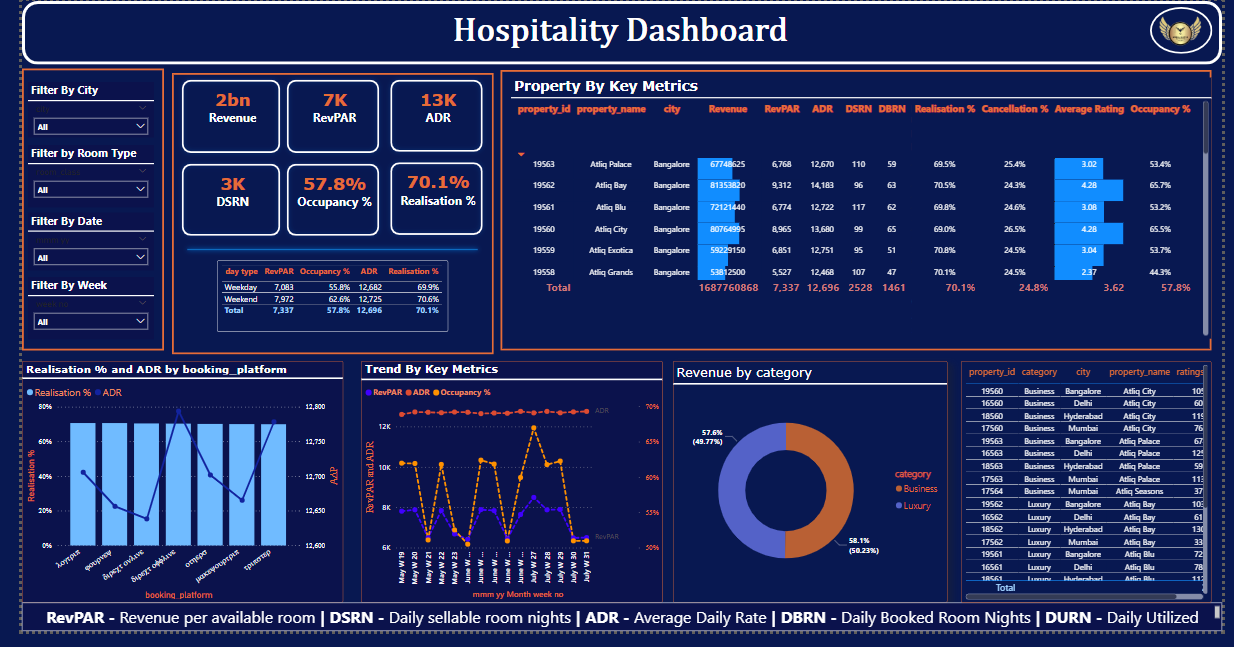

The dashboard page shown, as its layout file describes it:
{"tool":"powerbi","page":{"name":"HOME","canvas":[1800,1100],"ordinal":0},"visuals":[{"type":"cardVisual","title":"RevPar","fields":{"Data":["key_measures.Occupancy %"]},"box":[718.8,20,198.8,152.5],"z":0},{"type":"tableEx","title":"Property By Key Metrics","fields":{"Values":["dim_hotels.property_id","dim_hotels.property_name","dim_hotels.city","key_measures.Revenue","key_measures.RevPAR","key_measures.ADR","key_measures.DSRN","key_measures.DBRN","key_measures.DURN","key_measures.Realisation %","key_measures.Cancellation %","key_measures.Average Rating"]},"box":[816.7,626.7,930,383.3],"z":1000},{"type":"slicer","title":"Filter By City","fields":{"Values":["dim_hotels.city"]},"box":[0,118.3,151.7,110],"z":2000},{"type":"slicer","title":"Filter By Week","fields":{"Values":["dim_date.week no"]},"box":[0,433.3,210,101.7],"z":3000},{"type":"slicer","title":"Filter by Room Type","fields":{"Values":["dim_rooms.room_class"]},"box":[0,228.3,210,103.3],"z":4000},{"type":"slicer","title":"Filter By Date","fields":{"Values":["dim_date.mmm yy"]},"box":[0,338.3,210,95],"z":5000},{"type":"donutChart","title":"Revenue by category","fields":{"Category":["dim_hotels.category"],"Y":["key_measures.Occupancy %"]},"box":[0,533.8,221.2,186.2],"z":6000},{"type":"cardVisual","title":"RevPar","fields":{"Data":["key_measures.RevPAR"]},"box":[318.3,0,179.2,153.3],"z":7000},{"type":"cardVisual","title":"RevPar","fields":{"Data":["key_measures.DSRN"]},"box":[491.4,0,195.7,152.9],"z":8000},{"type":"cardVisual","title":"RevPar","fields":{"Data":["key_measures.Occupancy %"]},"box":[728.8,30,198.8,152.5],"z":9000},{"type":"cardVisual","title":"RevPar","fields":{"Data":["key_measures.ADR"]},"box":[885.7,0,190,152.9],"z":10000},{"type":"cardVisual","title":"RevPar","fields":{"Data":["key_measures.Realisation %"]},"box":[1075.7,0,204.3,152.9],"z":11000},{"type":"cardVisual","title":"Revenue","fields":{"Data":["key_measures.Revenue"]},"box":[152.1,0,178,153.7],"z":12000},{"type":"tableEx","fields":{"Values":["key_measures.Revenue WoW change %"]},"box":[444.3,257.1,71.4,44.3],"z":13000},{"type":"lineStackedColumnComboChart","fields":{"Category":["dim_fact_bookings.booking_platform"],"Y":["key_measures.Realisation %"],"Y2":["key_measures.ADR"]},"box":[356.7,720,400,213.3],"z":14000},{"type":"tableEx","fields":{"Values":["dim_date.data type","key_measures.RevPAR","key_measures.Occupancy %","key_measures.ADR","key_measures.Realisation %"]},"box":[470,460,430,180],"z":15000},{"type":"actionButton","box":[0,0,100,40],"z":16000},{"type":"lineChart","title":"Trend By Key Metrics","fields":{"Category":["dim_date.mmm yy.Variation.Date Hierarchy.Month","dim_date.week no"],"Y":["key_measures.RevPAR","key_measures.ADR"],"Y2":["key_measures.Occupancy %"]},"box":[980,206.7,733.3,266.7],"z":17000},{"type":"tableEx","fields":{"Values":["key_measures.Revpar WoW change %"]},"box":[738.6,205.7,218.6,108.6],"z":18000}]}

Visuals, with their boxes on the page's 1800x1100 design canvas (x1, y1, x2, y2). These are canvas units, not pixel positions in the 1234x647 screenshot, which may show the page scaled, cropped or inside an application window:
"RevPar" cardVisual: x1=719, y1=20, x2=918, y2=172
"Property By Key Metrics" tableEx: x1=817, y1=627, x2=1747, y2=1010
"Filter By City" slicer: x1=0, y1=118, x2=152, y2=228
"Filter By Week" slicer: x1=0, y1=433, x2=210, y2=535
"Filter by Room Type" slicer: x1=0, y1=228, x2=210, y2=332
"Filter By Date" slicer: x1=0, y1=338, x2=210, y2=433
"Revenue by category" donutChart: x1=0, y1=534, x2=221, y2=720
"RevPar" cardVisual: x1=318, y1=0, x2=498, y2=153
"RevPar" cardVisual: x1=491, y1=0, x2=687, y2=153
"RevPar" cardVisual: x1=729, y1=30, x2=928, y2=182
"RevPar" cardVisual: x1=886, y1=0, x2=1076, y2=153
"RevPar" cardVisual: x1=1076, y1=0, x2=1280, y2=153
"Revenue" cardVisual: x1=152, y1=0, x2=330, y2=154
tableEx - key_measures.Revenue WoW change %: x1=444, y1=257, x2=516, y2=301
lineStackedColumnComboChart - dim_fact_bookings.booking_platform x key_measures.Realisation %: x1=357, y1=720, x2=757, y2=933
tableEx - dim_date.data type x key_measures.RevPAR: x1=470, y1=460, x2=900, y2=640
actionButton: x1=0, y1=0, x2=100, y2=40
"Trend By Key Metrics" lineChart: x1=980, y1=207, x2=1713, y2=473
tableEx - key_measures.Revpar WoW change %: x1=739, y1=206, x2=957, y2=314
